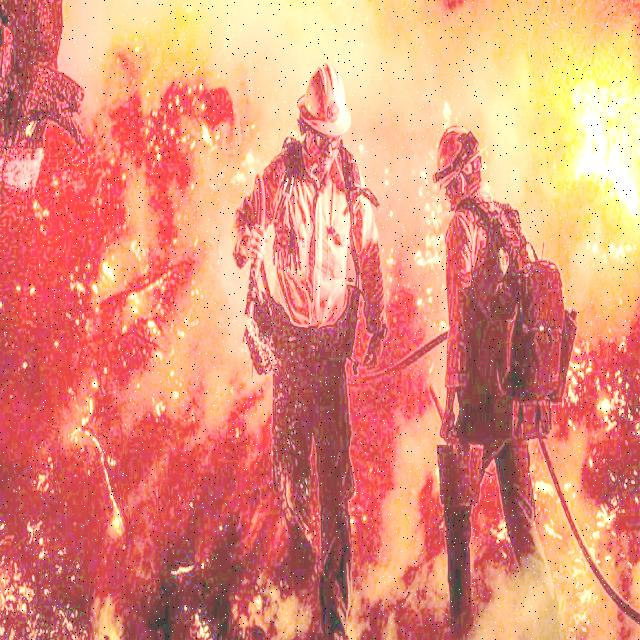api: (573, 77, 640, 223), (68, 392, 108, 464), (101, 462, 125, 536), (203, 116, 214, 152), (101, 261, 117, 285)
